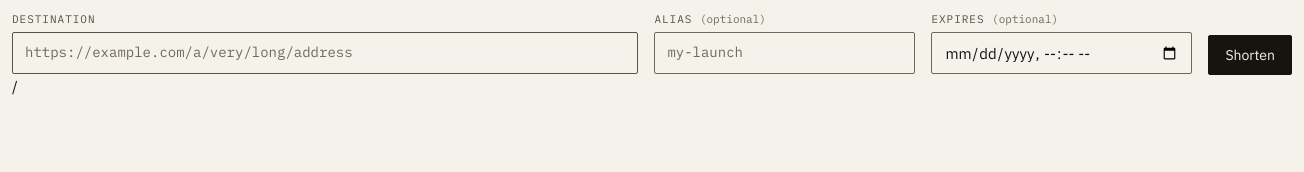
LinkComposer › puts the server's per-field messages next to the right inputs
Step 1. Type "https://example.com" into the field labelled "Destination" → (325, 53), box left=12, top=32, right=638, bottom=74
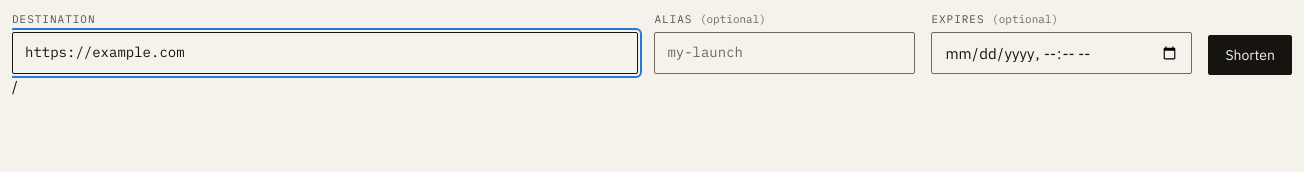
Step 2. Click the button "Shorten" → (1250, 55), box left=1208, top=35, right=1292, bottom=75
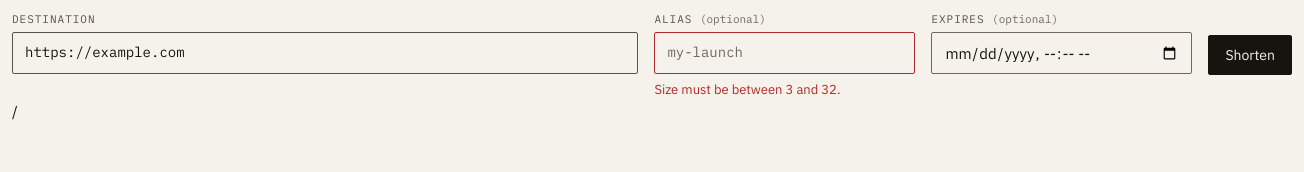
Result: the text "Size must be between 3 and 32." is shown at left=654, top=81, right=840, bottom=98
